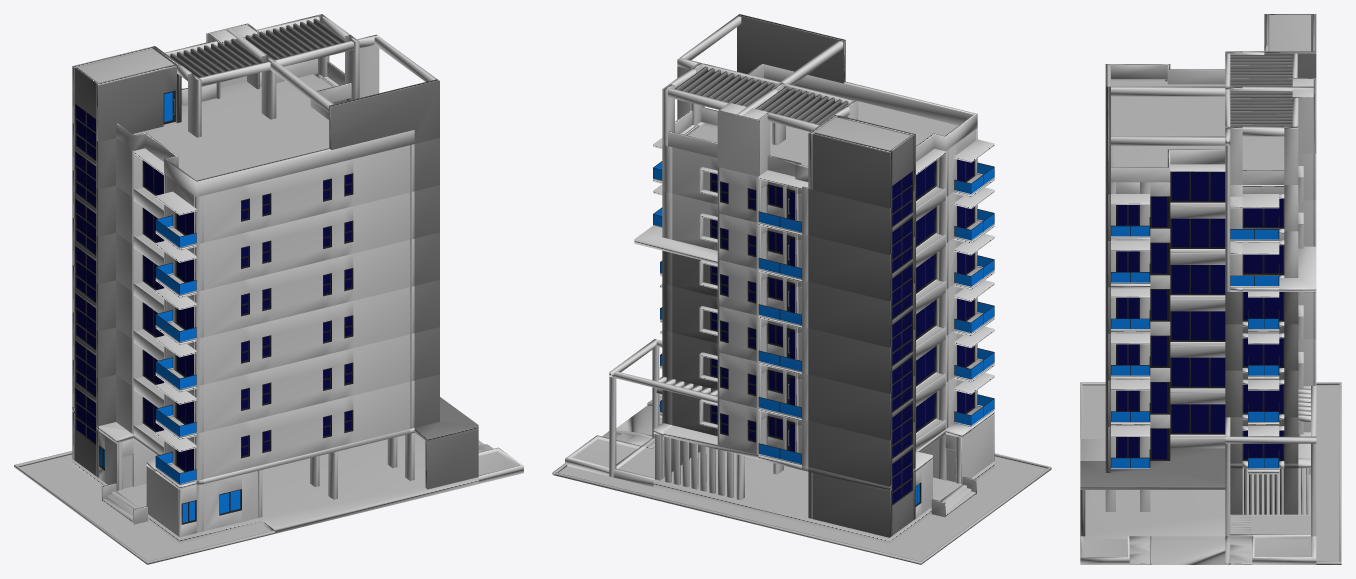
The model's file is apartement.glb.
3 renders of one model, left to right at view 1: azimuth 30°, elevation 25°; view 2: azimuth 150°, elevation 25°; view 3: azimuth 270°, elevation 25°, orthographic. The views are drawn at different scales.
Visible parts, largest first — view 1: AB1_OBJ_01, AB1_OBJ_06, AB1_OBJ_09, AB1_OBJ_02, AB1_OBJ_13, AB1_OBJ_11, AB1_OBJ_12, AB1_OBJ_10, AB1_OBJ_03, AB1_OBJ_08; view 2: AB1_OBJ_01, AB1_OBJ_06, AB1_OBJ_09, AB1_OBJ_02, AB1_OBJ_12, AB1_OBJ_11, AB1_OBJ_03, AB1_OBJ_13, AB1_OBJ_10; view 3: AB1_OBJ_09, AB1_OBJ_02, AB1_OBJ_06, AB1_OBJ_01, AB1_OBJ_12, AB1_OBJ_03, AB1_OBJ_13, AB1_OBJ_10, AB1_OBJ_11.
Part boxes in pixels (box(x1,y1,x2,y2)): AB1_OBJ_01: box(72, 73, 439, 480); AB1_OBJ_06: box(72, 14, 439, 196); AB1_OBJ_09: box(14, 433, 523, 564); AB1_OBJ_02: box(75, 104, 353, 458); AB1_OBJ_13: box(133, 74, 333, 180); AB1_OBJ_11: box(72, 407, 414, 537); AB1_OBJ_12: box(146, 44, 379, 489); AB1_OBJ_10: box(414, 397, 478, 489); AB1_OBJ_03: box(175, 212, 193, 471); AB1_OBJ_08: box(99, 445, 241, 524); AB1_OBJ_01: box(662, 122, 977, 486); AB1_OBJ_06: box(662, 14, 977, 208); AB1_OBJ_09: box(552, 393, 1051, 564); AB1_OBJ_02: box(710, 148, 945, 505); AB1_OBJ_12: box(634, 66, 994, 469); AB1_OBJ_11: box(653, 415, 994, 537); AB1_OBJ_03: box(761, 159, 975, 453); AB1_OBJ_13: box(686, 87, 958, 166); AB1_OBJ_10: box(609, 339, 717, 477); AB1_OBJ_09: box(1080, 382, 1341, 564); AB1_OBJ_02: box(1150, 164, 1225, 460); AB1_OBJ_06: box(1105, 14, 1316, 194); AB1_OBJ_01: box(1105, 79, 1316, 472); AB1_OBJ_12: box(1111, 145, 1316, 474); AB1_OBJ_03: box(1116, 199, 1284, 460); AB1_OBJ_13: box(1111, 79, 1284, 169); AB1_OBJ_10: box(1080, 386, 1316, 536); AB1_OBJ_11: box(1105, 432, 1310, 514).
Size of the model in its own units: 25.38 by 25.76 by 15.57.
